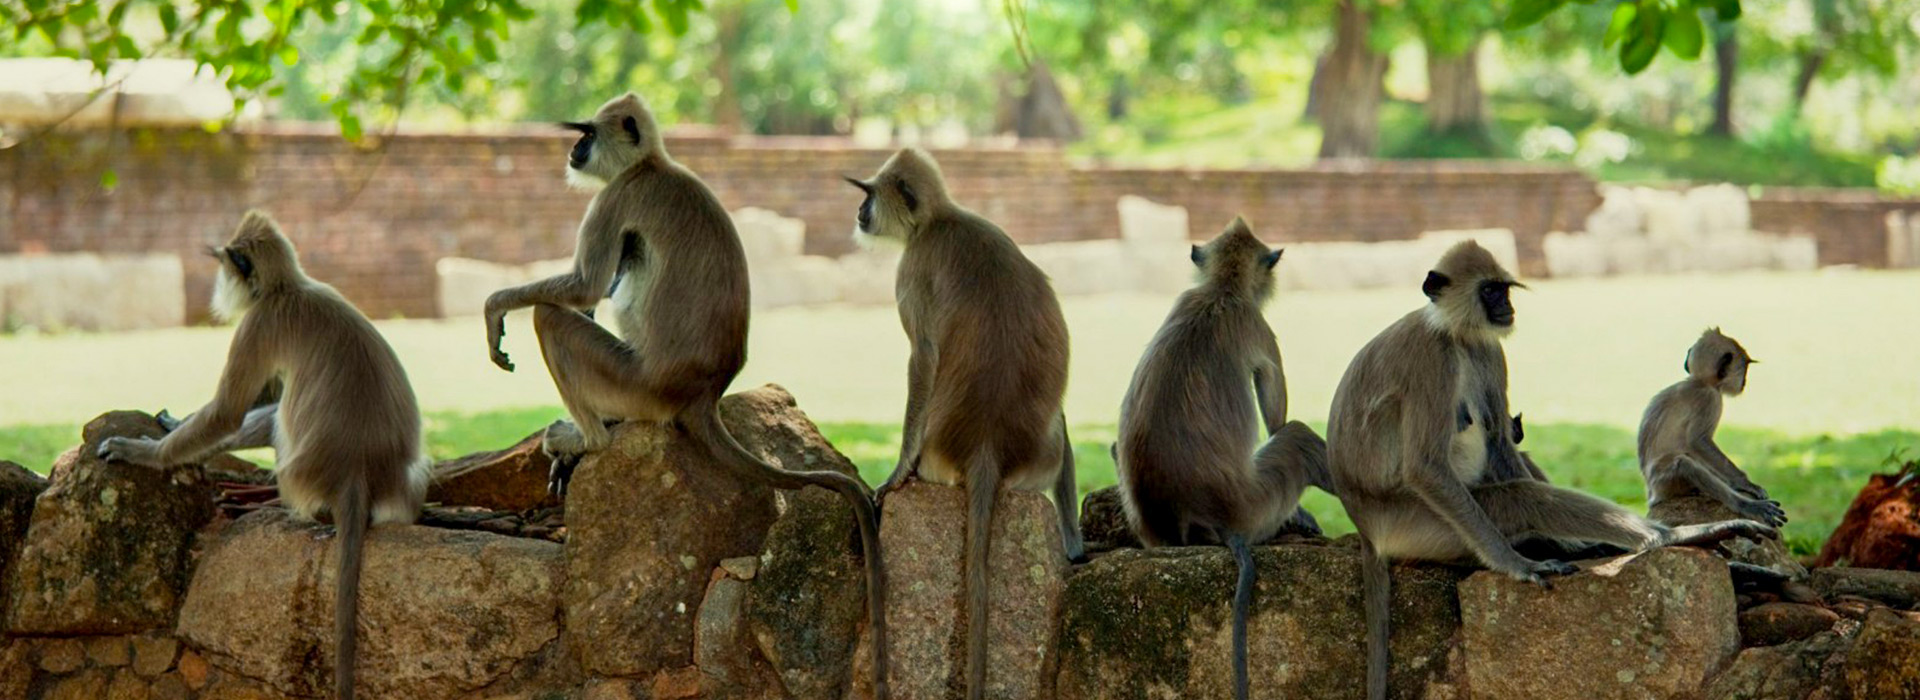Monkey: (482, 62, 798, 448), (820, 126, 1096, 507), (1321, 207, 1571, 592)
